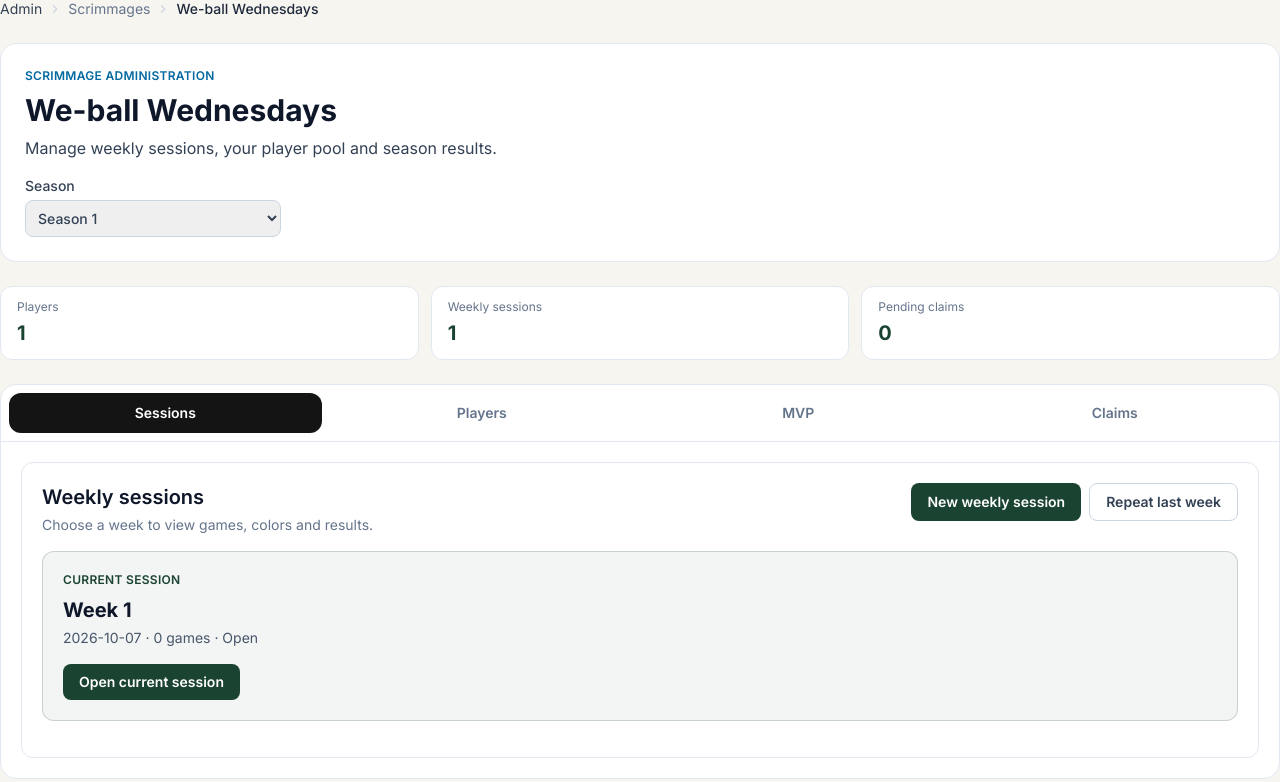
Scenario: starting a fresh week after cancelling Repeat last week restores empty attendance and default rules
Click the button "Repeat last week" at (1164, 502), box [1089, 483, 1238, 521]
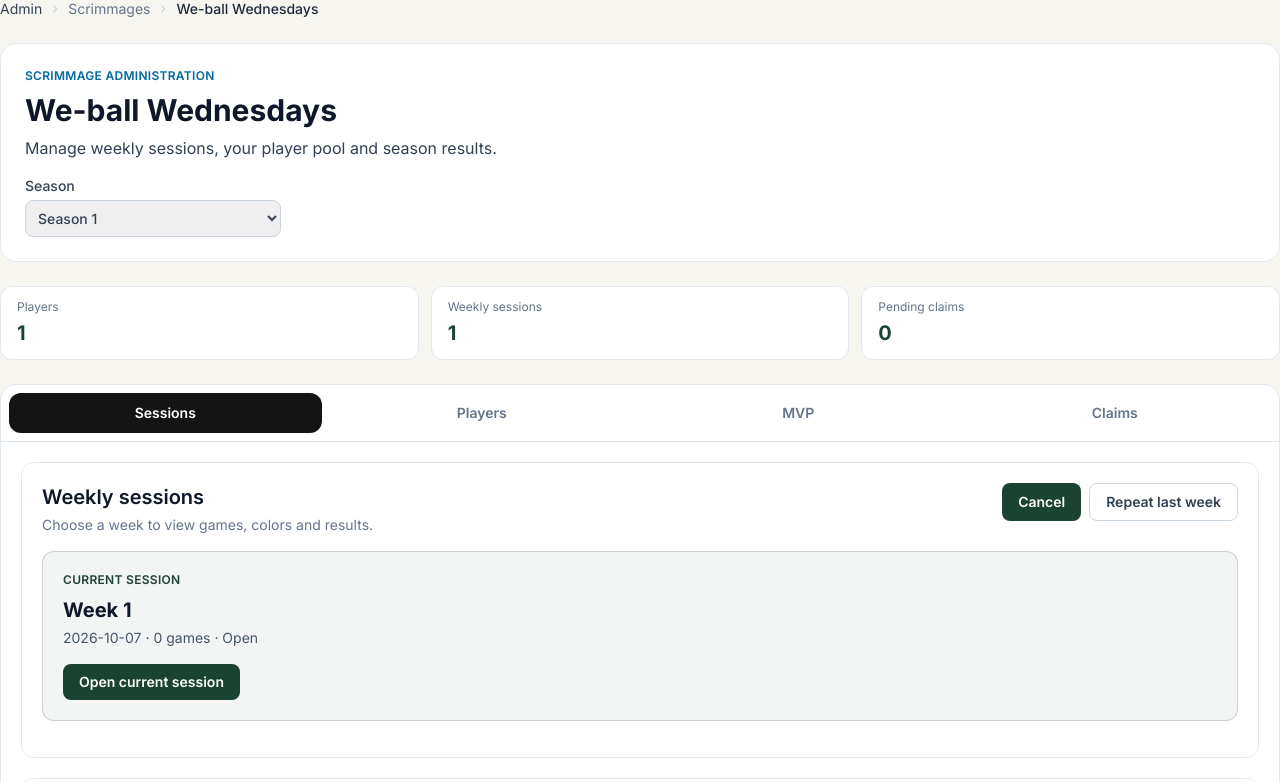
Click the button "Cancel" at (1042, 502), box [1002, 483, 1081, 521]
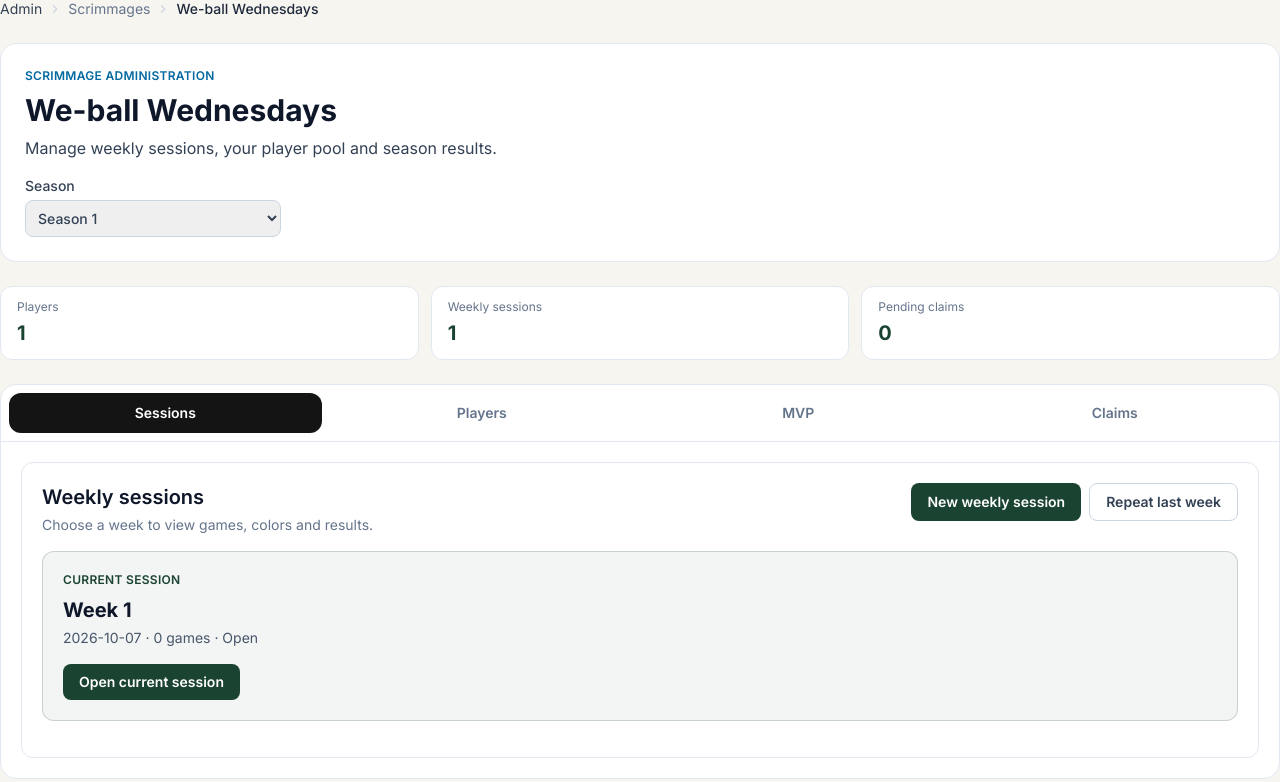
Click the button "New weekly session" at (996, 502), box [912, 483, 1081, 521]
(page scrolled)
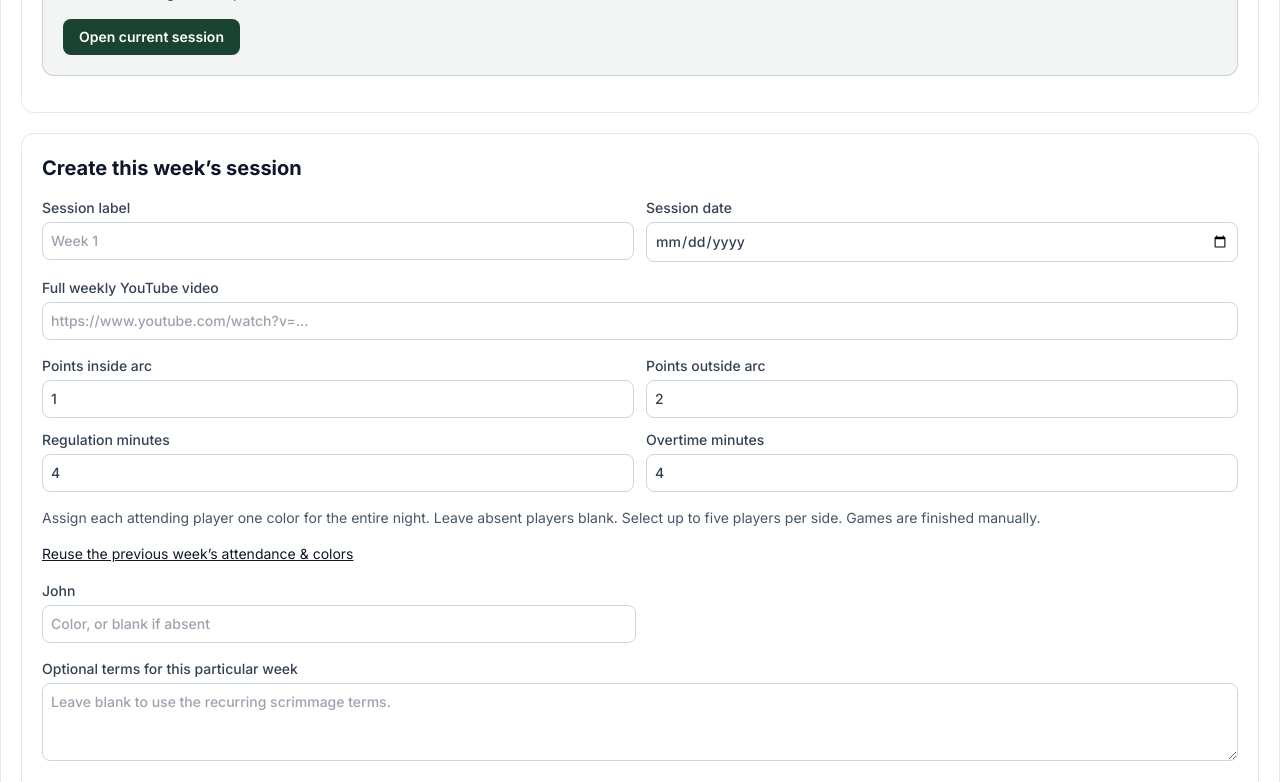
expect the field labelled "John" is empty: met, box [42, 605, 636, 643]
expect the number field labelled "Points inside arc" holds "1": met, box [42, 380, 634, 418]
expect the number field labelled "Points outside arc" holds "2": met, box [646, 380, 1238, 418]
